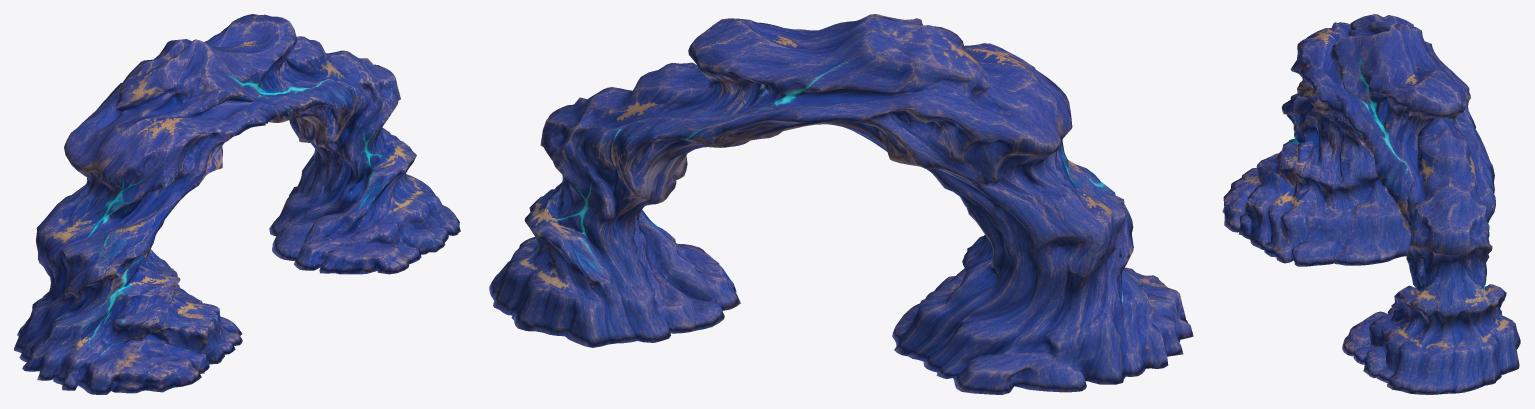
File: arch.glb
The picture shows the model from 3 angles, left to right: view 1: azimuth 30°, elevation 25°; view 2: azimuth 150°, elevation 25°; view 3: azimuth 270°, elevation 25°; orthographic projection. The views are drawn at different scales.
Size of the model in its own units: 0.957 by 0.4873 by 0.5444.
Materials: 1 (1 with a texture image).
